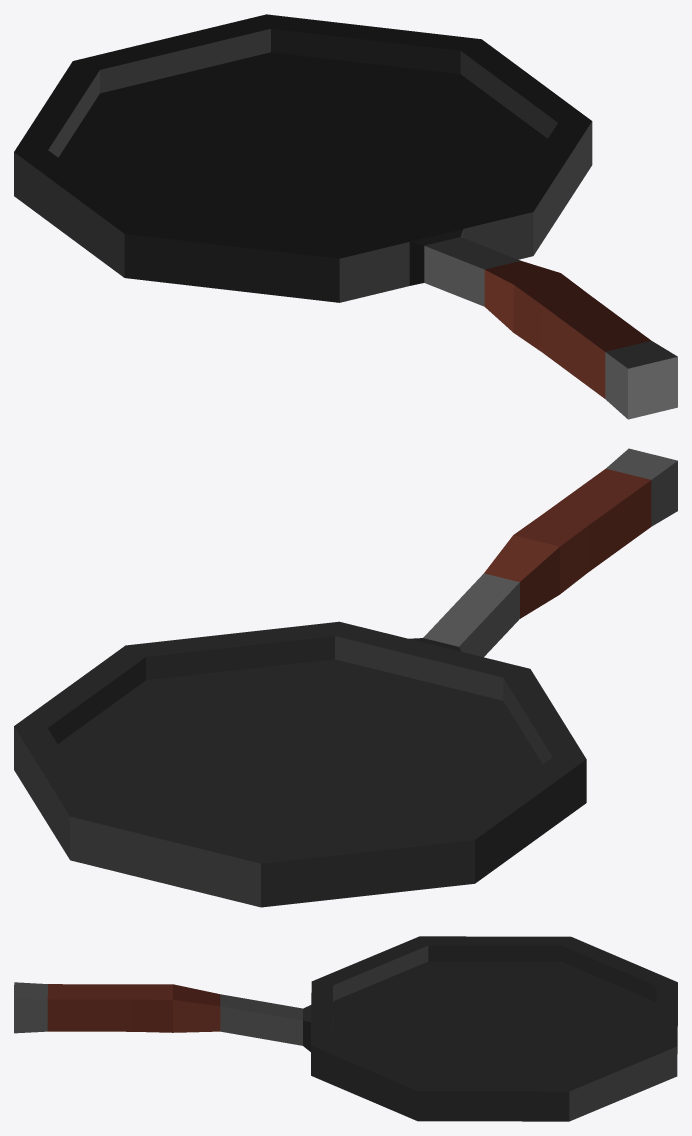
File: Frying Pan 1.fbx
3 views of the same model, one above another, from view 1: azimuth 30°, elevation 25°; view 2: azimuth 150°, elevation 25°; view 3: azimuth 270°, elevation 25° (orthographic). The views are drawn at different scales.
Visible parts, largest first — view 1: Node 0; view 2: Node 0; view 3: Node 0.
Boxes of the visible parts, x1,y1,x2,y2 form: Node 0: (14, 14, 677, 419); Node 0: (14, 448, 677, 907); Node 0: (14, 936, 677, 1121).
Bounding box in the file's own units: 1.11 × 0.1168 × 0.6148.
